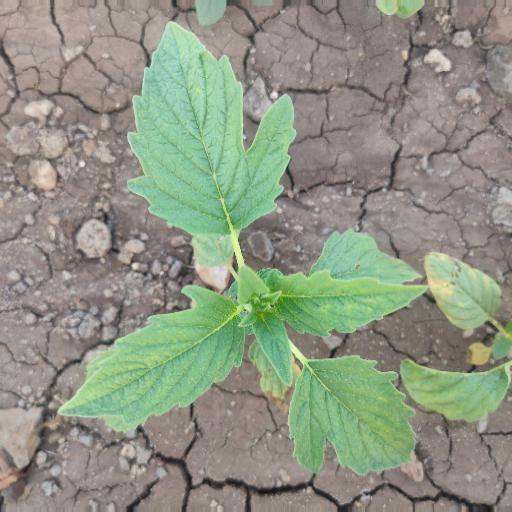crop: (47, 7, 437, 483)
